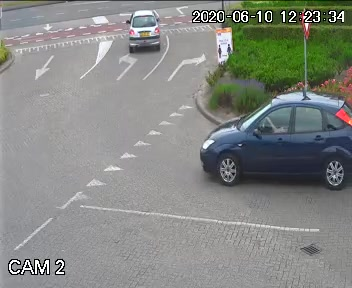car: (194, 86, 352, 211), (118, 6, 167, 64)
